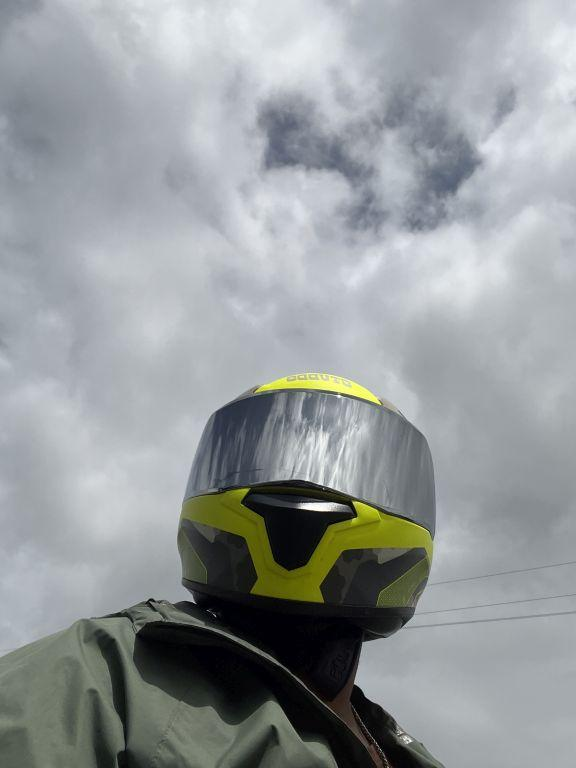helmet: (165, 359, 442, 677)
